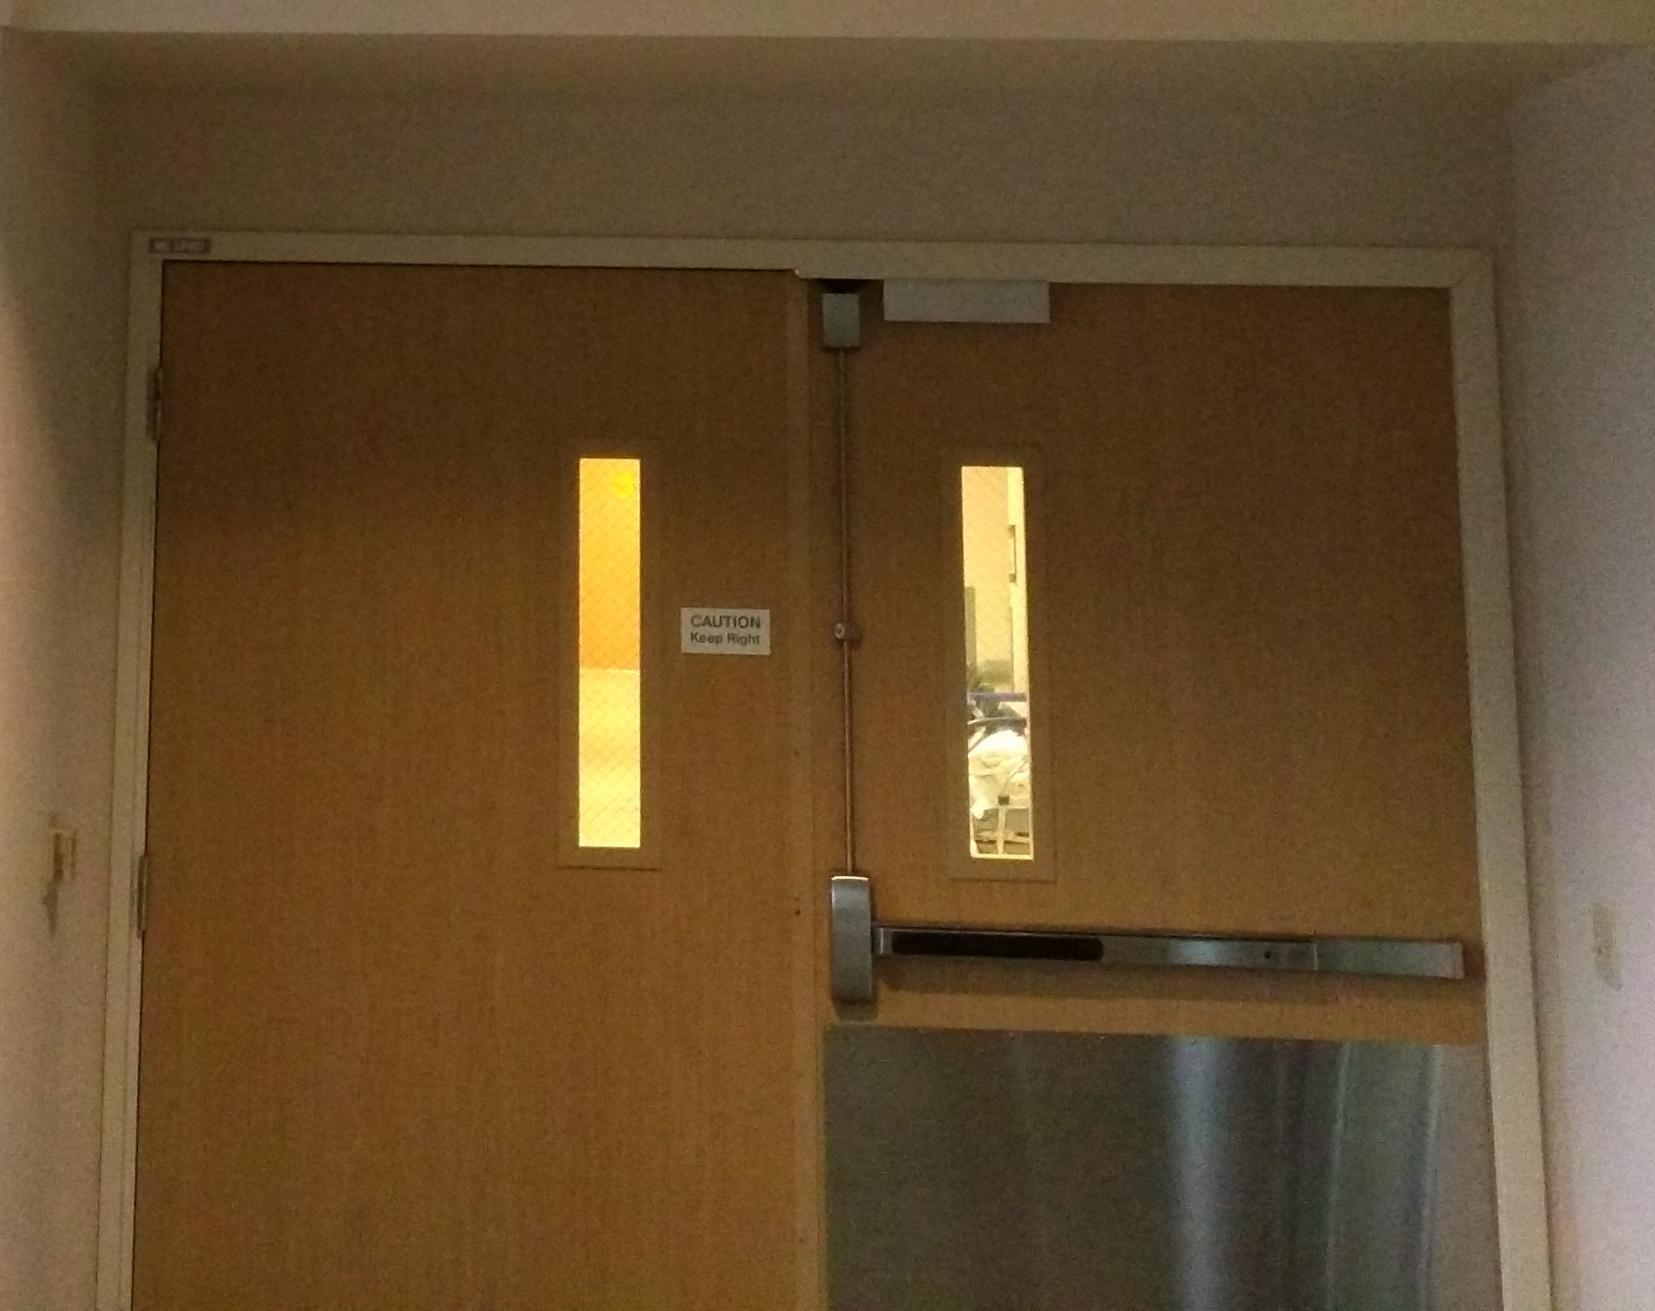door: (144, 248, 1526, 1311)
